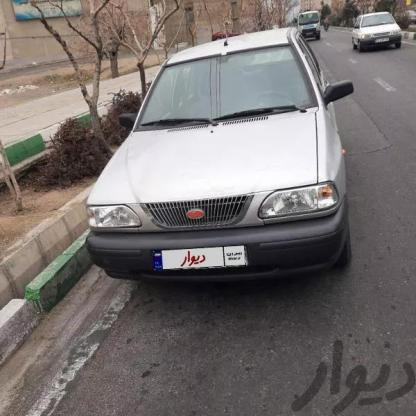Car: (85, 25, 367, 308), (344, 8, 412, 54), (288, 9, 334, 36)
